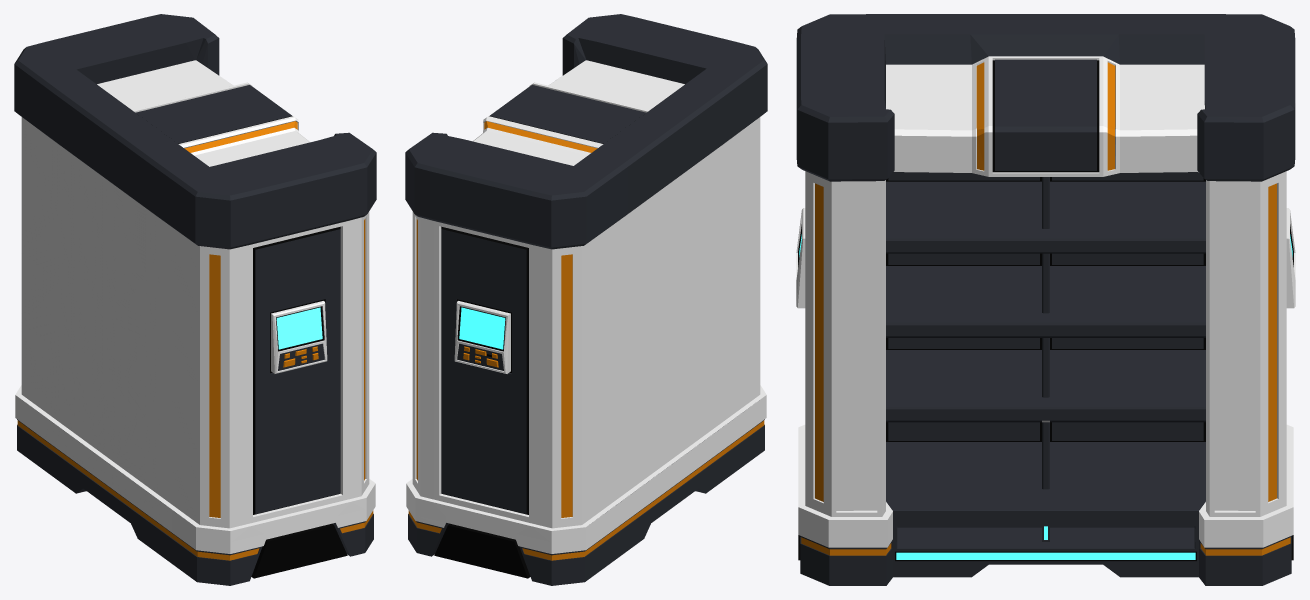
The model's file is SM_MedLab_Storage_Cabinet.fbx.
3 renders of one model, left to right at view 1: azimuth 30°, elevation 25°; view 2: azimuth 150°, elevation 25°; view 3: azimuth 270°, elevation 25°, orthographic. The views are drawn at different scales.
Parts seen in each view (by area): view 1: SM_MedLab_Storage_Cabinet.001; view 2: SM_MedLab_Storage_Cabinet.001; view 3: SM_MedLab_Storage_Cabinet.001.
Part boxes in pixels (x1=…): SM_MedLab_Storage_Cabinet.001: x1=14, y1=14, x2=376, y2=585; SM_MedLab_Storage_Cabinet.001: x1=405, y1=14, x2=767, y2=585; SM_MedLab_Storage_Cabinet.001: x1=796, y1=14, x2=1295, y2=585.
Size of the model in its own units: 103 by 210 by 203.
